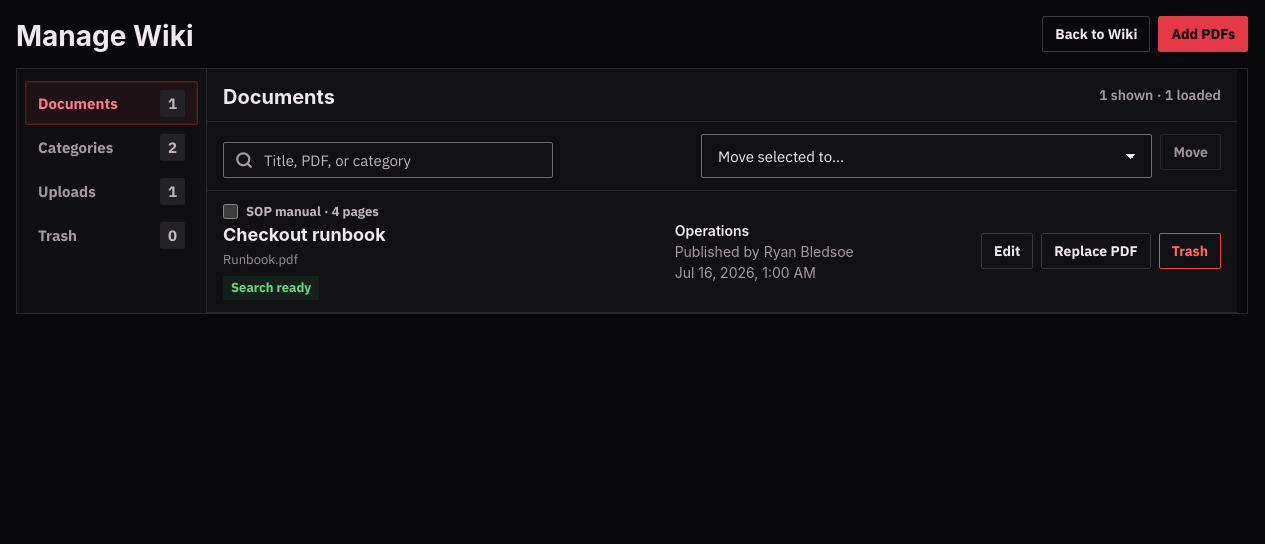
KnowledgeManagementWorkspace › keeps pending cancellation visible while suppressing stale server actions
Click the button "Uploads 1". click: {"x": 112, "y": 191}
box: [25,169,198,213]
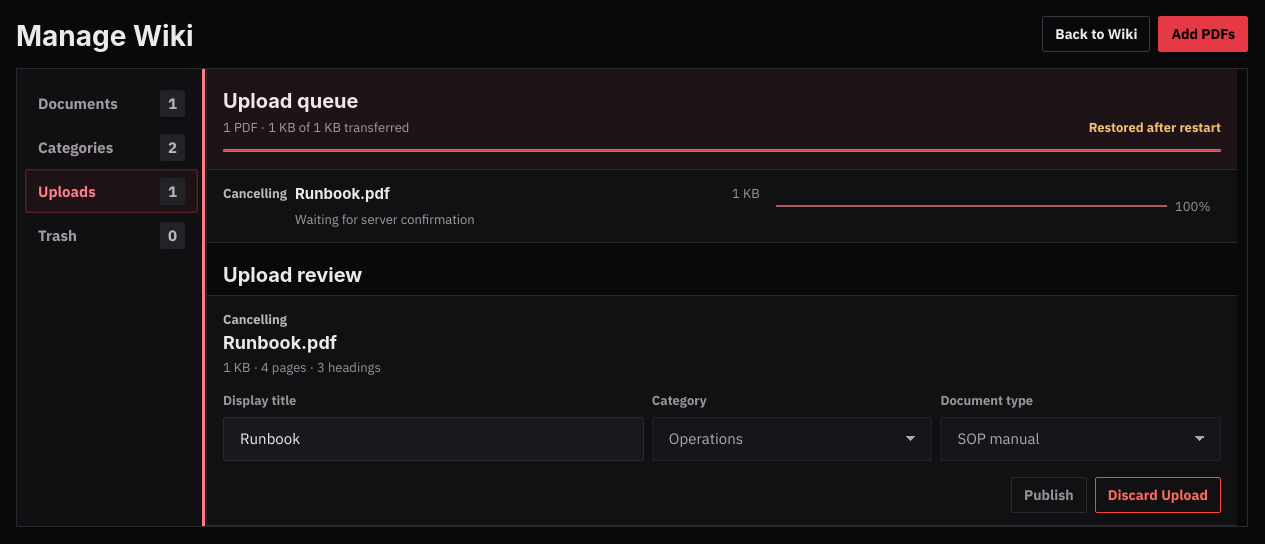
Expected: the text "Runbook.pdf" is shown, [295,184,390,203]
Expected: the text "Waiting for server confirmation" is shown, [295,211,475,228]
Expected: no the button "Move" are shown
